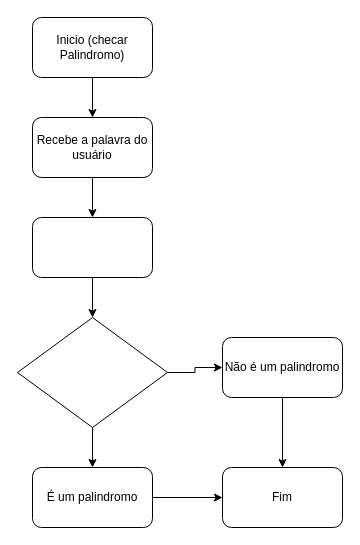
The diagram is 360 pixels wide and 545 high, and some of its shapes have lost their labels. Each missing label, with the centre of its shape:
Palavra == palavra invertida: the point at 92,372
Salva em outra variável a palavra invertida: the point at 92,247
